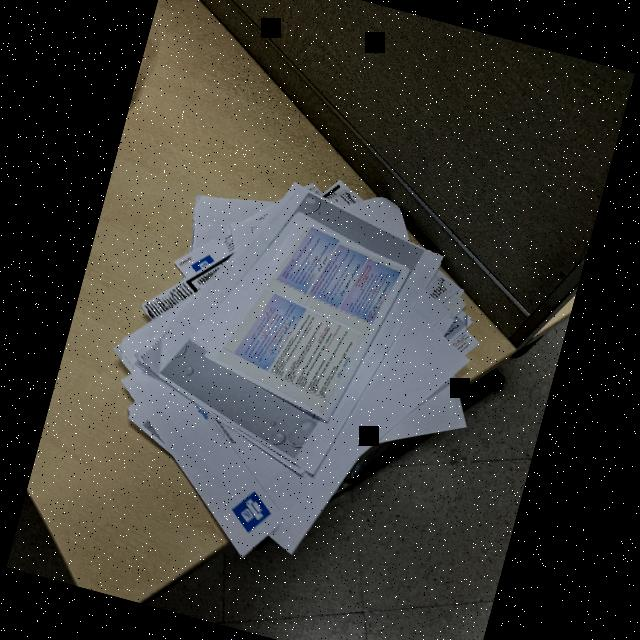reuseable_paper: (81, 137, 524, 603)
